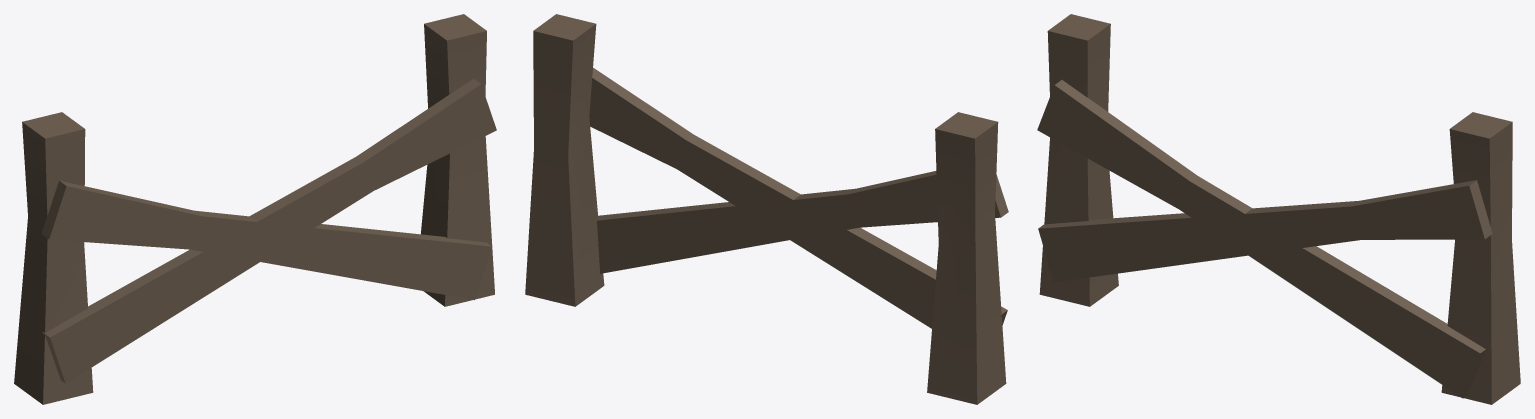
The model's file is FenceBroken1_Mesh.fbx.
The picture shows the model from 3 angles, left to right: view 1: azimuth 30°, elevation 25°; view 2: azimuth 150°, elevation 25°; view 3: azimuth 330°, elevation 25°; orthographic projection.
Visible parts, largest first — view 1: FenceBroken1_Mesh; view 2: FenceBroken1_Mesh; view 3: FenceBroken1_Mesh.
Boxes of the visible parts, bbox=[...] form: FenceBroken1_Mesh: bbox=[14, 14, 496, 404]; FenceBroken1_Mesh: bbox=[525, 14, 1008, 404]; FenceBroken1_Mesh: bbox=[1037, 14, 1520, 404].
Size of the model in its own units: 180 by 100 by 22.99.
